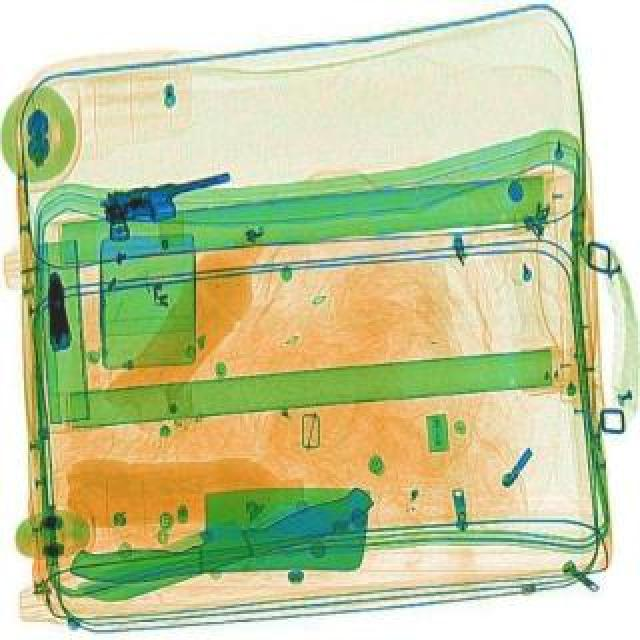gun: (96, 164, 240, 244), (38, 270, 74, 352)
knife: (72, 478, 382, 608), (66, 480, 374, 586)
